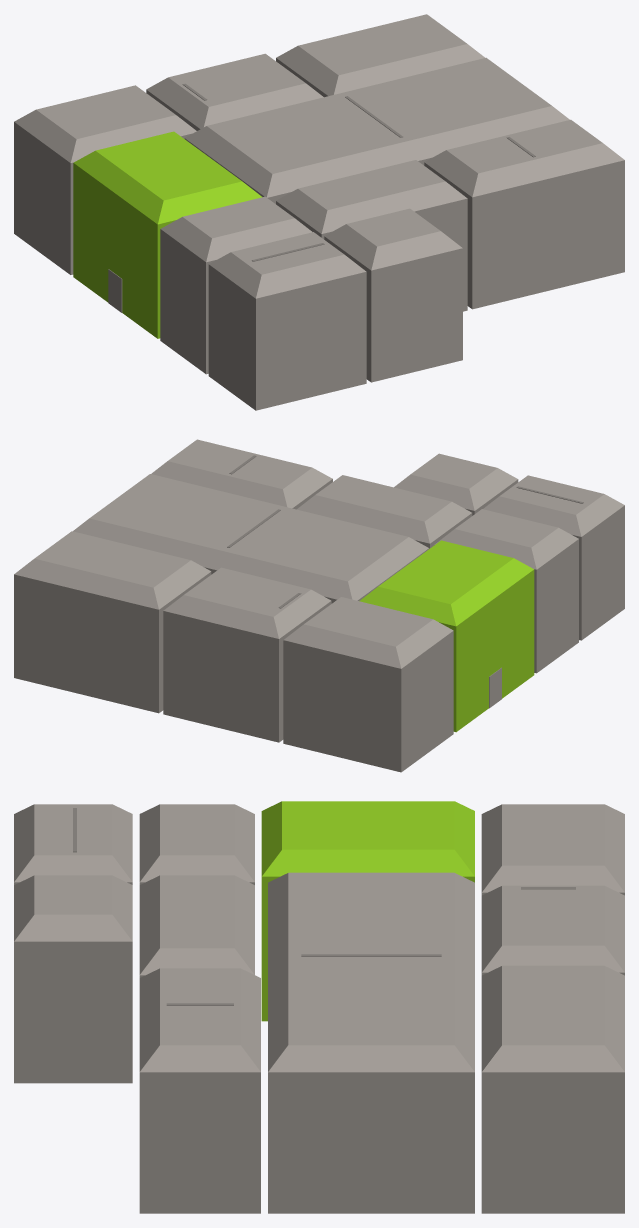
The model's file is MossyGlade_SteppingStone.glb.
The picture shows the model from 3 angles, top to bottom: view 1: azimuth 30°, elevation 25°; view 2: azimuth 150°, elevation 25°; view 3: azimuth 270°, elevation 25°; orthographic projection. The views are drawn at different scales.
Visible parts, largest first — view 1: Tile_04, Tile_09, Tile_06, Moss_Tile, Tile_07, Tile_01, Tile_05, Tile_03, Tile_08, Tile_02; view 2: Tile_01, Tile_03, Tile_04, Tile_02, Moss_Tile, Tile_06, Tile_05, Tile_09, Tile_08, Tile_07; view 3: Tile_04, Tile_03, Tile_09, Tile_07, Moss_Tile, Tile_01, Tile_02, Tile_08, Tile_06, Tile_05.
Part boxes in pixels (box(x1,y1,x2,y2)): Tile_04: box(184, 57, 569, 203); Tile_09: box(424, 119, 624, 309); Tile_06: box(208, 232, 366, 410); Moss_Tile: box(73, 131, 262, 338); Tile_07: box(324, 208, 462, 382); Tile_01: box(14, 85, 196, 274); Tile_05: box(160, 196, 312, 374); Tile_03: box(276, 14, 484, 97); Tile_08: box(276, 160, 467, 311); Tile_02: box(146, 53, 323, 130); Tile_01: box(283, 597, 453, 772); Tile_03: box(14, 531, 211, 713); Tile_04: box(73, 474, 429, 603); Tile_02: box(163, 567, 331, 742); Moss_Tile: box(359, 540, 534, 732); Tile_06: box(483, 475, 624, 640); Tile_05: box(434, 509, 578, 673); Tile_09: box(151, 439, 332, 509); Tile_08: box(297, 475, 472, 548); Tile_07: box(394, 453, 518, 515); Tile_04: box(268, 872, 474, 1213); Tile_03: box(481, 965, 624, 1213); Tile_09: box(139, 968, 260, 1213); Tile_07: box(14, 875, 132, 1083); Moss_Tile: box(261, 801, 474, 1021); Tile_01: box(481, 804, 624, 895); Tile_02: box(481, 885, 624, 975); Tile_08: box(139, 875, 254, 977); Tile_06: box(14, 804, 132, 884); Tile_05: box(139, 804, 254, 884).
Size of the model in its own units: 0.901 by 0.265 by 0.9.
